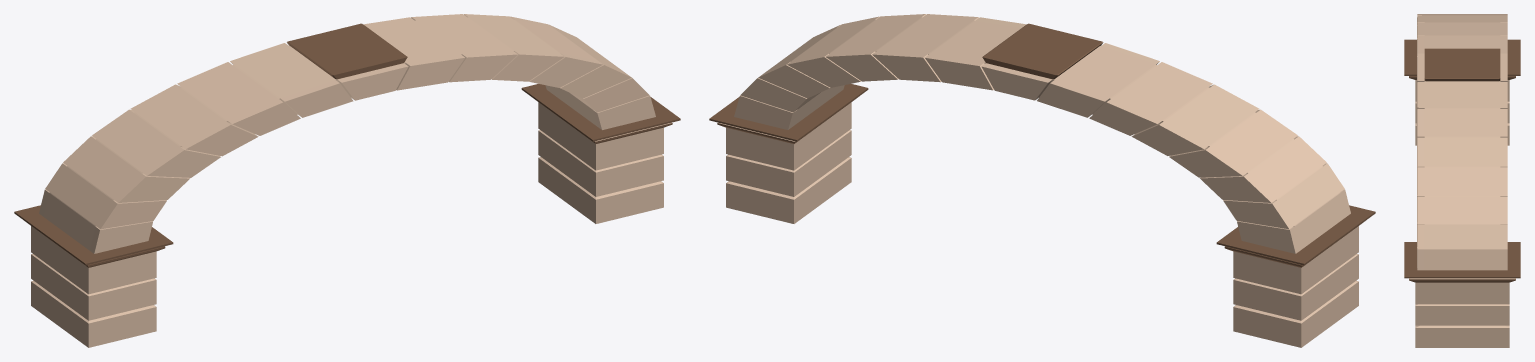
Rendered from Arch_3_0.6_1_Colored.fbx.
3 views of the same model, side by side, from view 1: azimuth 30°, elevation 25°; view 2: azimuth 150°, elevation 25°; view 3: azimuth 270°, elevation 25° (orthographic). The views are drawn at different scales.
Parts seen in each view (by area): view 1: Arch_3_0_6_1; view 2: Arch_3_0_6_1; view 3: Arch_3_0_6_1.
Boxes of the visible parts, left/top/right/bottom form: Arch_3_0_6_1: left=14, top=14, right=680, bottom=347; Arch_3_0_6_1: left=709, top=14, right=1375, bottom=347; Arch_3_0_6_1: left=1404, top=14, right=1520, bottom=347.
Size of the model in its own units: 294 by 98.35 by 60.92.
